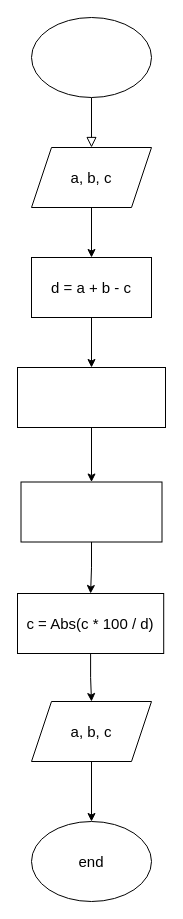
The diagram is 183 pixels wide and 919 high, and some of its shapes have lost their labels. Here are the shapes that lost their labels. From the top down, the box of each, then its label:
(30, 16, 152, 98): start
(16, 366, 166, 428): a = Abs(a * 100 / d)
(20, 481, 162, 542): b = Abs(b * 100 / d)
